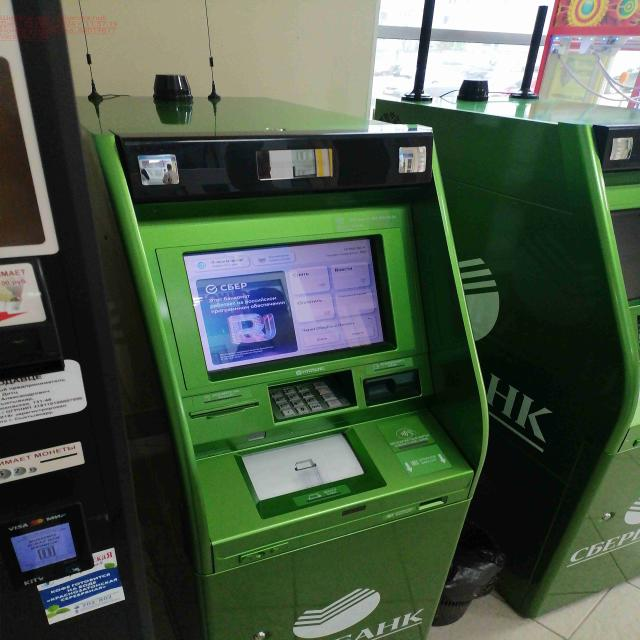bank: (69, 93, 484, 640), (375, 95, 640, 612)
